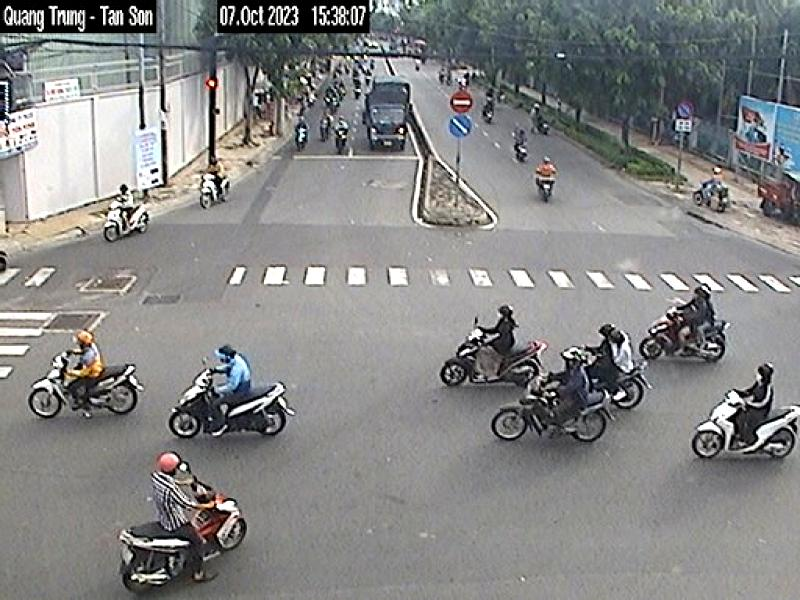motorcycle: (120, 474, 248, 596), (492, 379, 610, 445), (693, 391, 800, 461), (26, 353, 142, 417), (168, 378, 288, 437), (440, 326, 547, 386), (638, 311, 728, 364), (612, 361, 650, 412), (103, 202, 150, 243)
truck: (366, 86, 411, 149)
